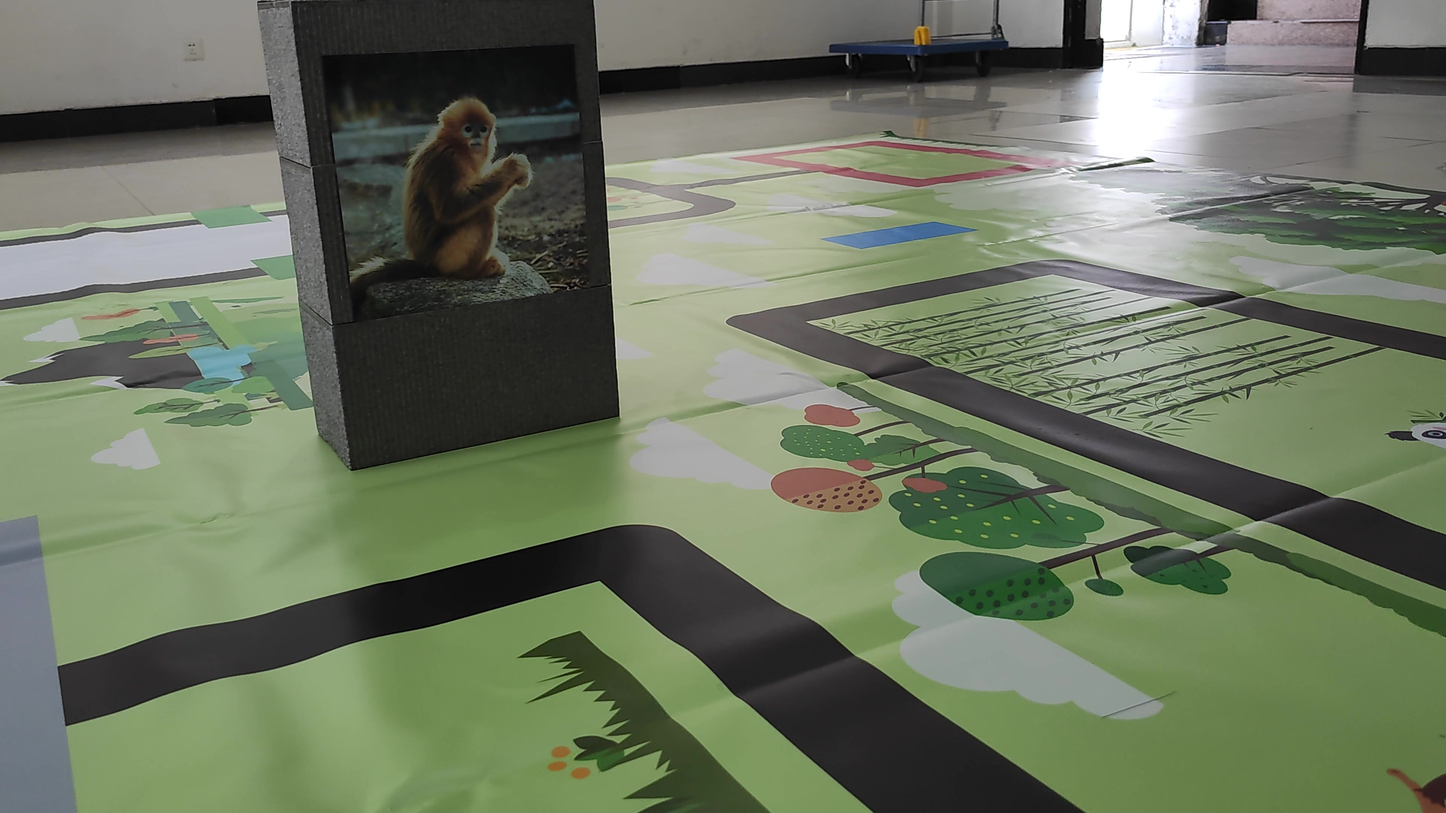monkey: (349, 93, 541, 305)
